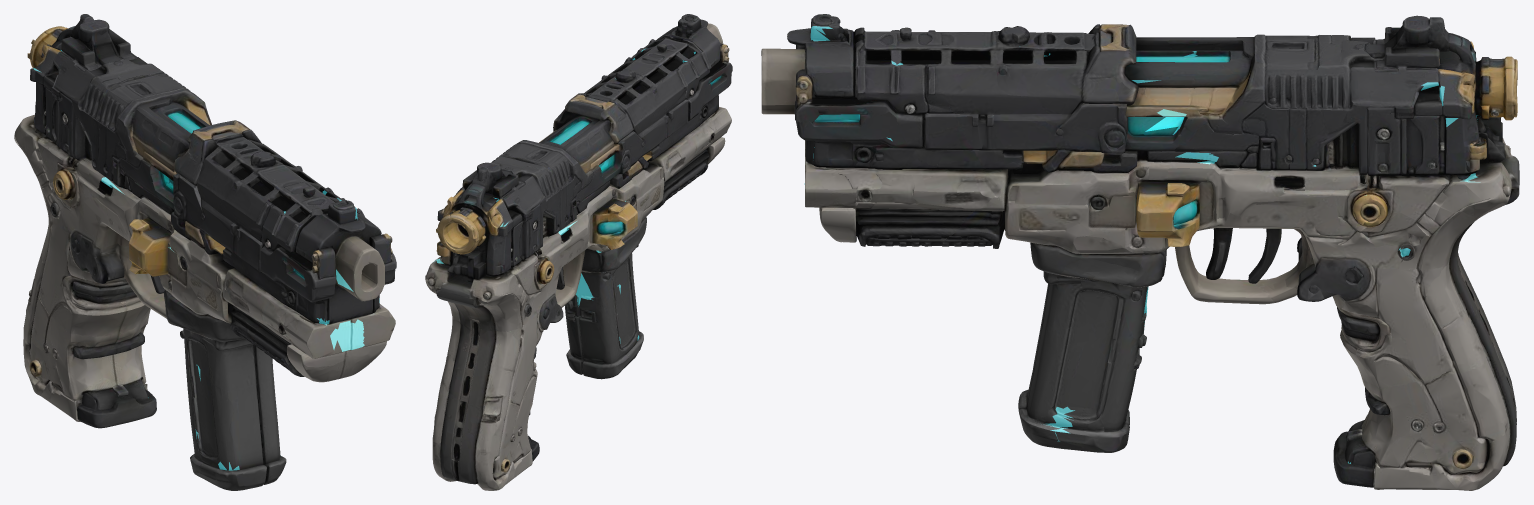
File: hp_viewmodel_sidearm_reference_derived_v2_1024.glb
3 renders of one model, left to right at view 1: azimuth 30°, elevation 25°; view 2: azimuth 150°, elevation 25°; view 3: azimuth 270°, elevation 25°, orthographic. The views are drawn at different scales.
Visible parts, largest first — view 1: sidearm_grip_node, sidearm_slide_node, sidearm_barrel_node, sidearm_frame_node, sidearm_emissive_node, sidearm_trim_node; view 2: sidearm_grip_node, sidearm_slide_node, sidearm_barrel_node, sidearm_frame_node, sidearm_trim_node, sidearm_emissive_node; view 3: sidearm_grip_node, sidearm_slide_node, sidearm_barrel_node, sidearm_frame_node, sidearm_trim_node, sidearm_emissive_node.
Part boxes in pixels (left/top/right/bottom): sidearm_grip_node: left=14, top=14, right=396, bottom=382; sidearm_slide_node: left=29, top=14, right=209, bottom=452; sidearm_barrel_node: left=23, top=280, right=286, bottom=490; sidearm_frame_node: left=129, top=119, right=280, bottom=469; sidearm_emissive_node: left=33, top=50, right=379, bottom=470; sidearm_trim_node: left=50, top=24, right=376, bottom=387; sidearm_grip_node: left=425, top=14, right=732, bottom=307; sidearm_slide_node: left=433, top=129, right=636, bottom=405; sidearm_barrel_node: left=432, top=300, right=643, bottom=490; sidearm_frame_node: left=539, top=94, right=639, bottom=337; sidearm_trim_node: left=438, top=53, right=727, bottom=401; sidearm_emissive_node: left=434, top=48, right=695, bottom=343; sidearm_grip_node: left=761, top=14, right=1519, bottom=278; sidearm_slide_node: left=1067, top=15, right=1518, bottom=415; sidearm_barrel_node: left=1018, top=331, right=1516, bottom=490; sidearm_frame_node: left=1028, top=24, right=1196, bottom=417; sidearm_trim_node: left=846, top=21, right=1511, bottom=360; sidearm_emissive_node: left=804, top=26, right=1480, bottom=463.
Bounding box in the file's own units: 0.2431 × 0.6473 × 0.9785.
6 materials, 6 textured.
